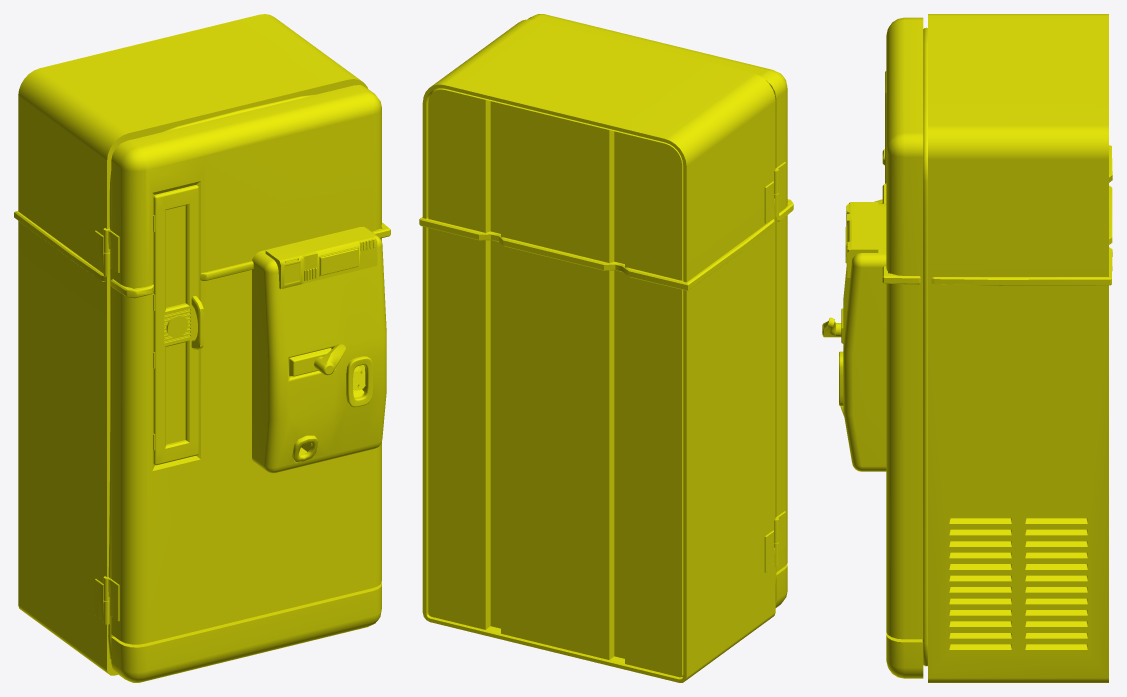
Rendered from vending_fbx.fbx.fbx.
3 renders of one model, left to right at view 1: azimuth 30°, elevation 25°; view 2: azimuth 150°, elevation 25°; view 3: azimuth 270°, elevation 25°, orthographic.
Visible parts, largest first — view 1: vending; view 2: vending; view 3: vending.
Boxes of the visible parts, left/top/right/bottom form: vending: left=14, top=14, right=390, bottom=682; vending: left=419, top=14, right=793, bottom=682; vending: left=822, top=14, right=1112, bottom=682.
Bounding box in the file's own units: 14.57 × 27.8 × 13.31.
